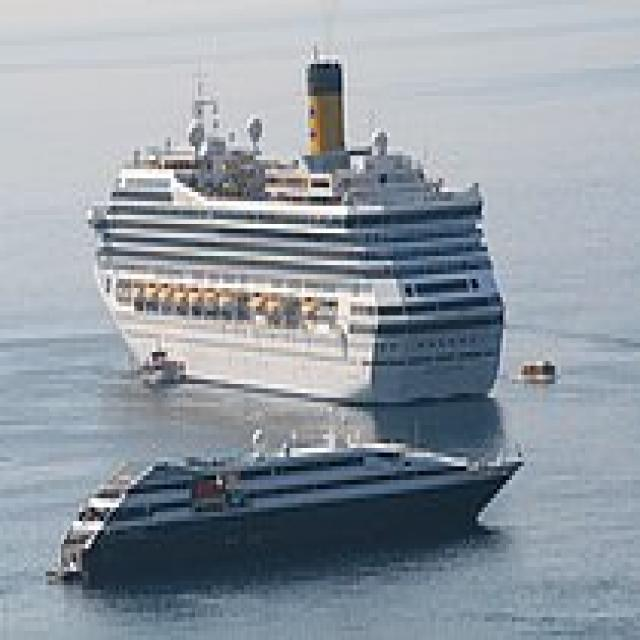Ship: (71, 29, 516, 422), (44, 422, 532, 587)
